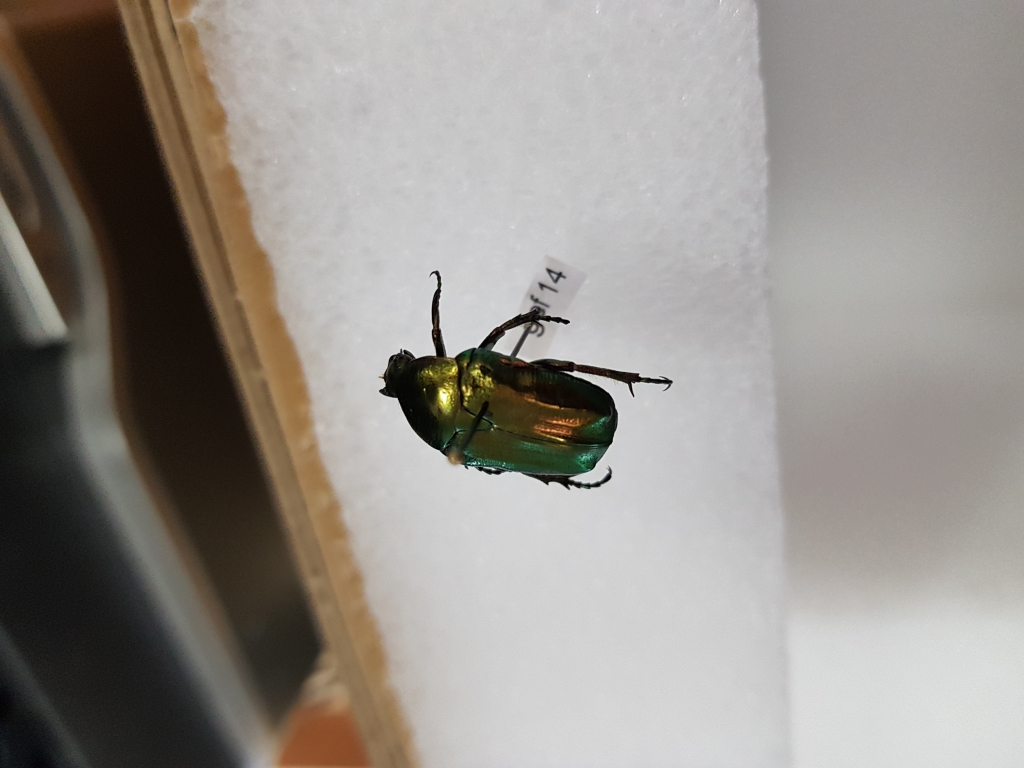Cetonia_aurata: (372, 261, 678, 511)
